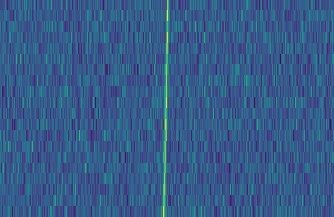signal: (158, 0, 171, 217)
